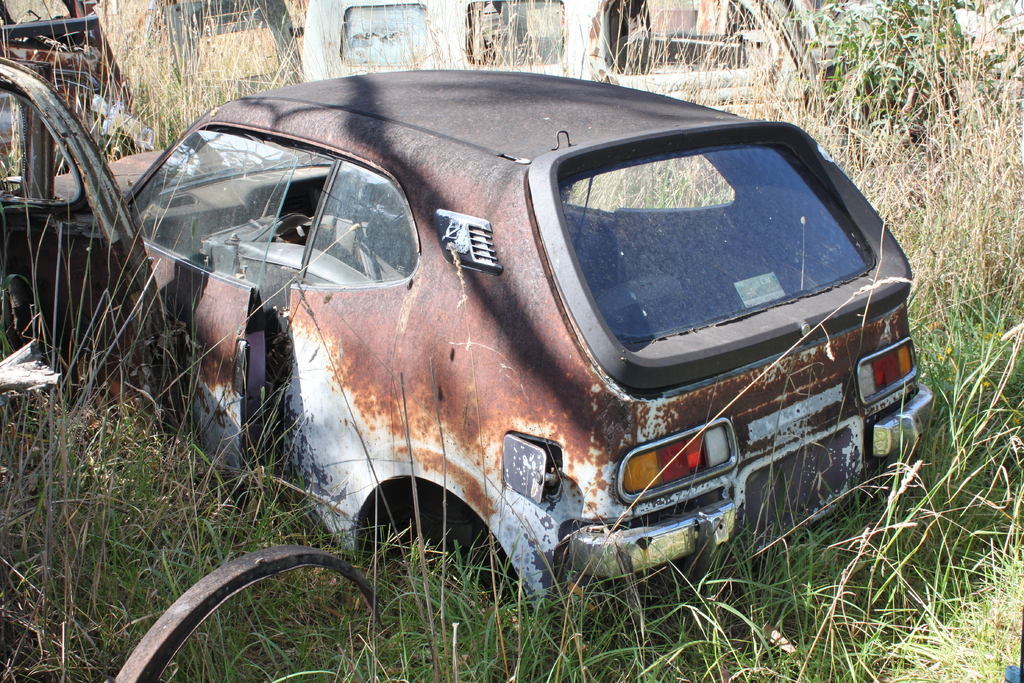Car: (1, 66, 936, 626), (0, 58, 174, 451), (0, 0, 139, 154)
